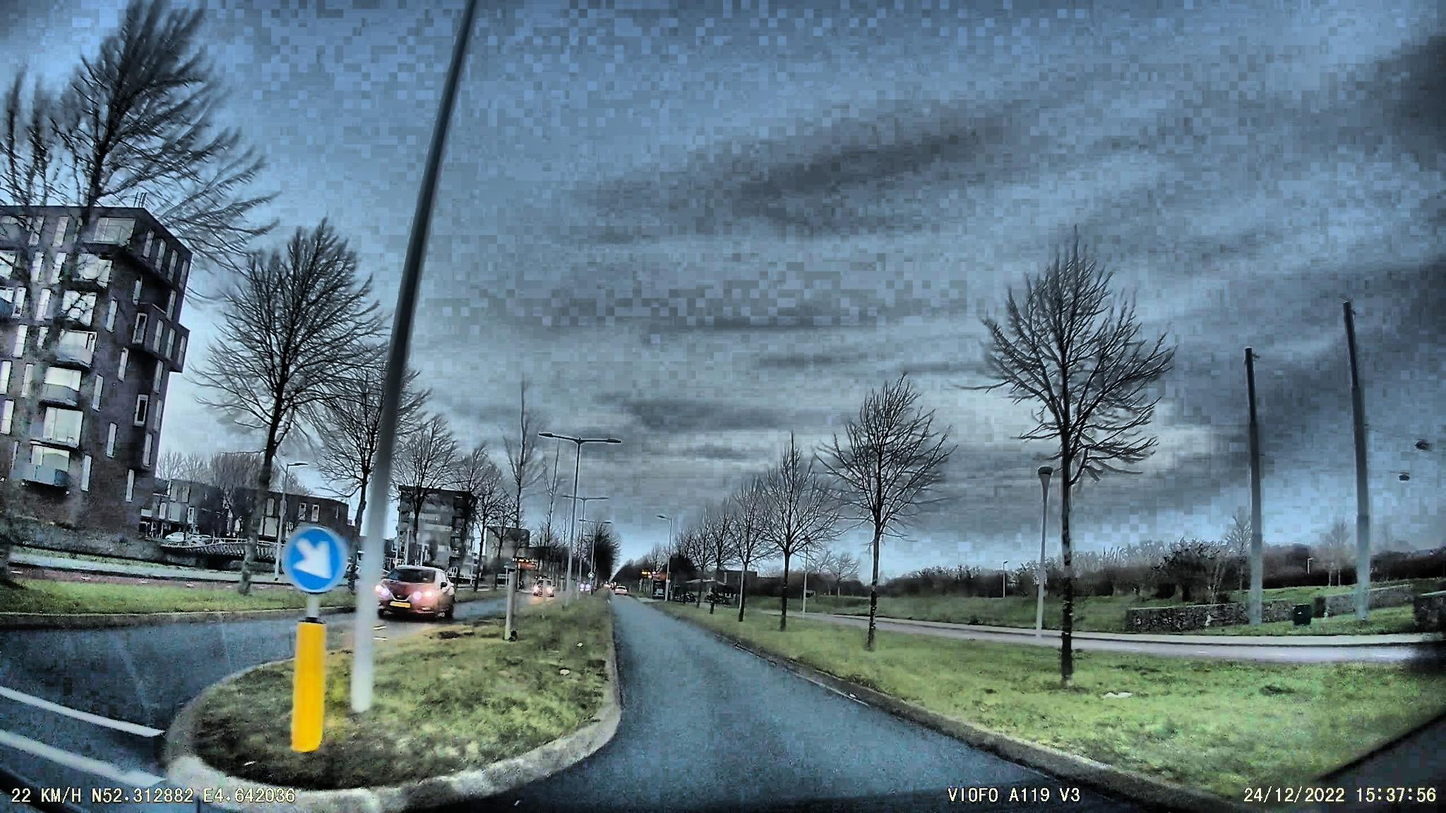Roads: (431, 602, 1179, 813)
